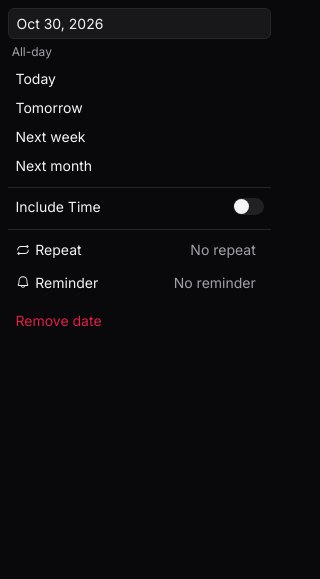
Test: DatePicker: the Task date › test reminder presets follow resolution
The width and height of the screenshot is (320, 579).
Later steps or results of the test are not shown.
Click the button with aria-label "Reminder: No reminder".
click(215, 282)  # box [166,270,264,295]
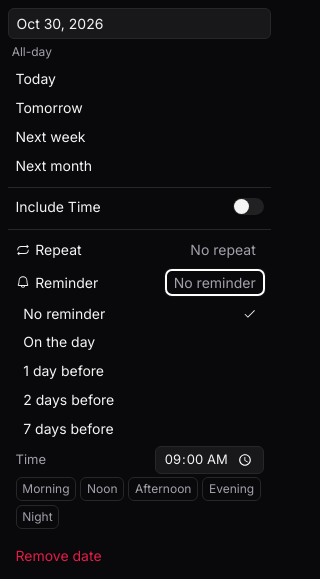
Now the time field labelled "Time" holds "09:00", box [155,446,264,474]
Now the button "Morning" is shown, box [16,477,76,501]
Now the button "Noon" is shown, box [80,477,124,501]
